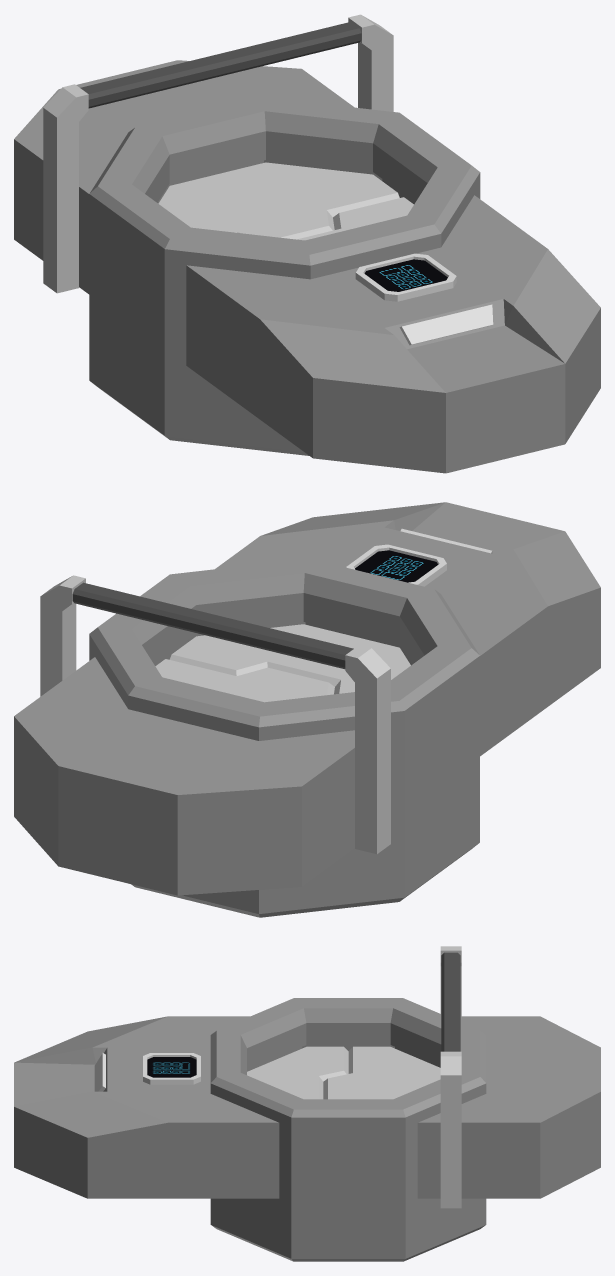
File: SM_Vent_1.fbx
3 renders of one model, top to bottom at view 1: azimuth 30°, elevation 25°; view 2: azimuth 150°, elevation 25°; view 3: azimuth 270°, elevation 25°, orthographic. The views are drawn at different scales.
Parts seen in each view (by area): view 1: SM_Vent_1; view 2: SM_Vent_1; view 3: SM_Vent_1.
Boxes of the visible parts, x1,y1,x2,y2 form: SM_Vent_1: [14, 14, 600, 473]; SM_Vent_1: [14, 502, 600, 917]; SM_Vent_1: [14, 946, 600, 1261].
Bounding box in the file's own units: 116 × 89.57 × 232.
